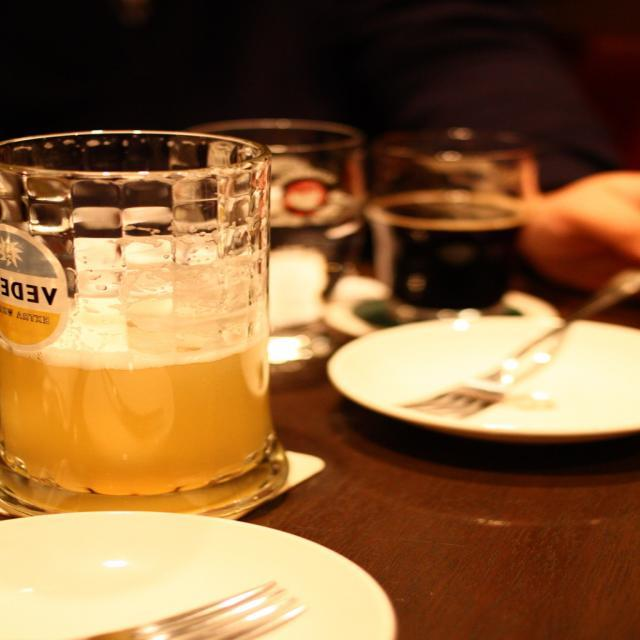ceramic plate: (328, 296, 638, 472), (0, 510, 417, 640)
